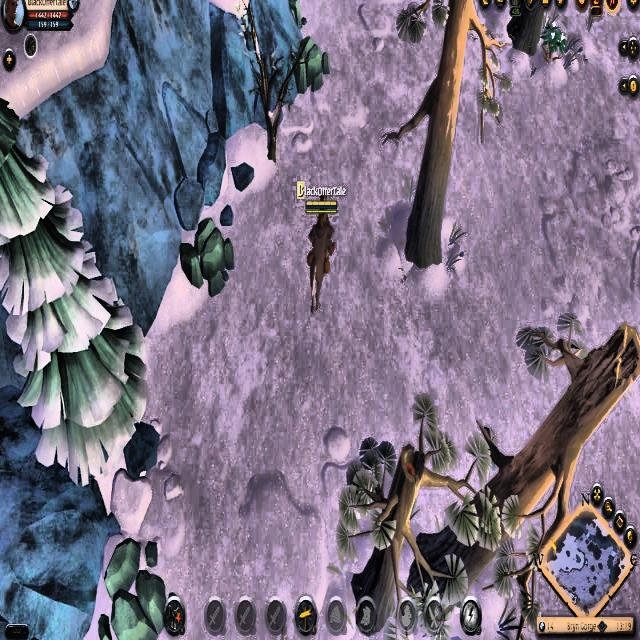sandstone: (96, 536, 167, 640), (175, 215, 233, 294), (292, 30, 331, 91), (284, 1, 312, 30)
